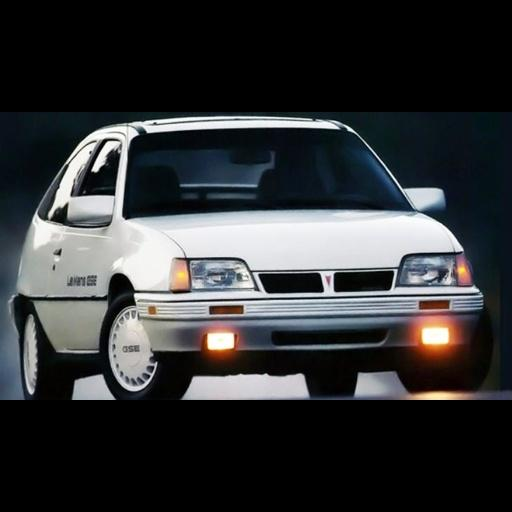hatchback: (9, 117, 492, 399)
